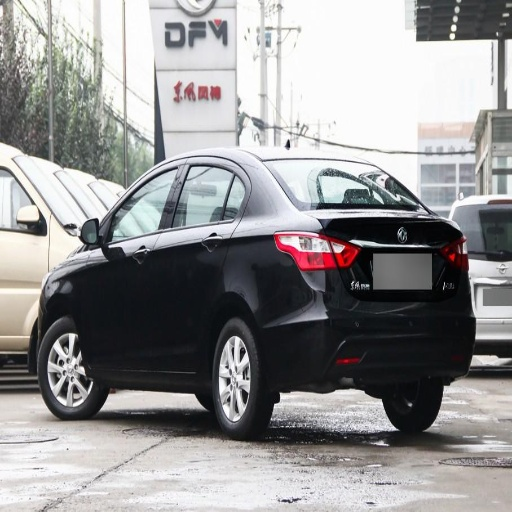back_bumper: (254, 273, 478, 388)
back_glass: (268, 163, 415, 208)
back_left_door: (154, 160, 244, 372)
tailgate: (329, 213, 450, 302)
